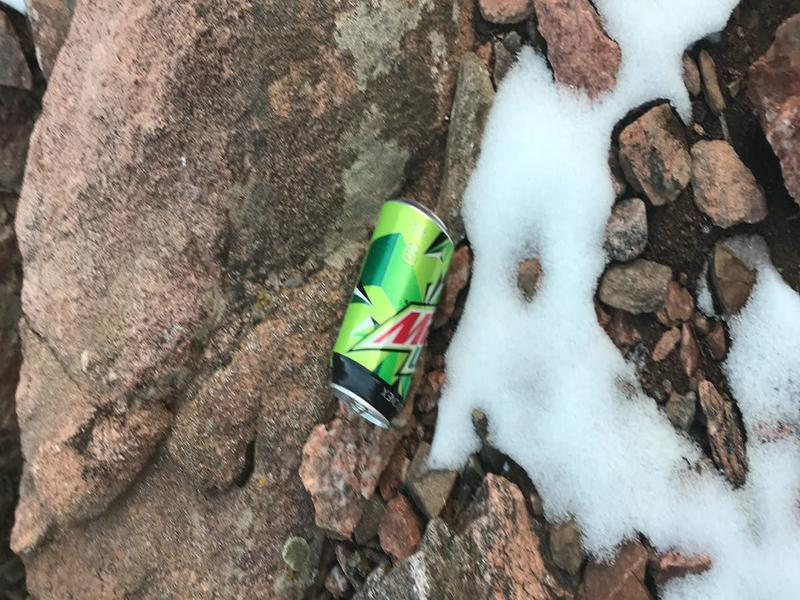can: (319, 190, 466, 436)
